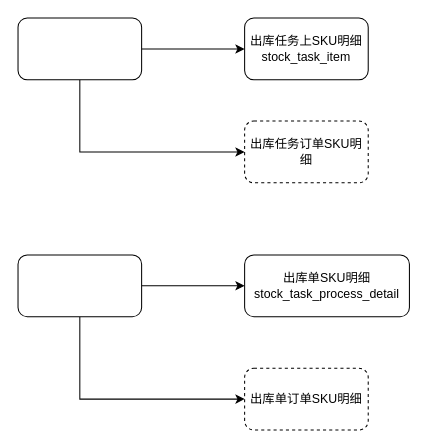
Image size: 427x448. Some labels were removed from this diagram. The centre of each missing label's shape, as x and y in pixels:
"出库任务stock_task" goes at point 79,48.
"出库单stock_task_process" goes at point 79,285.
